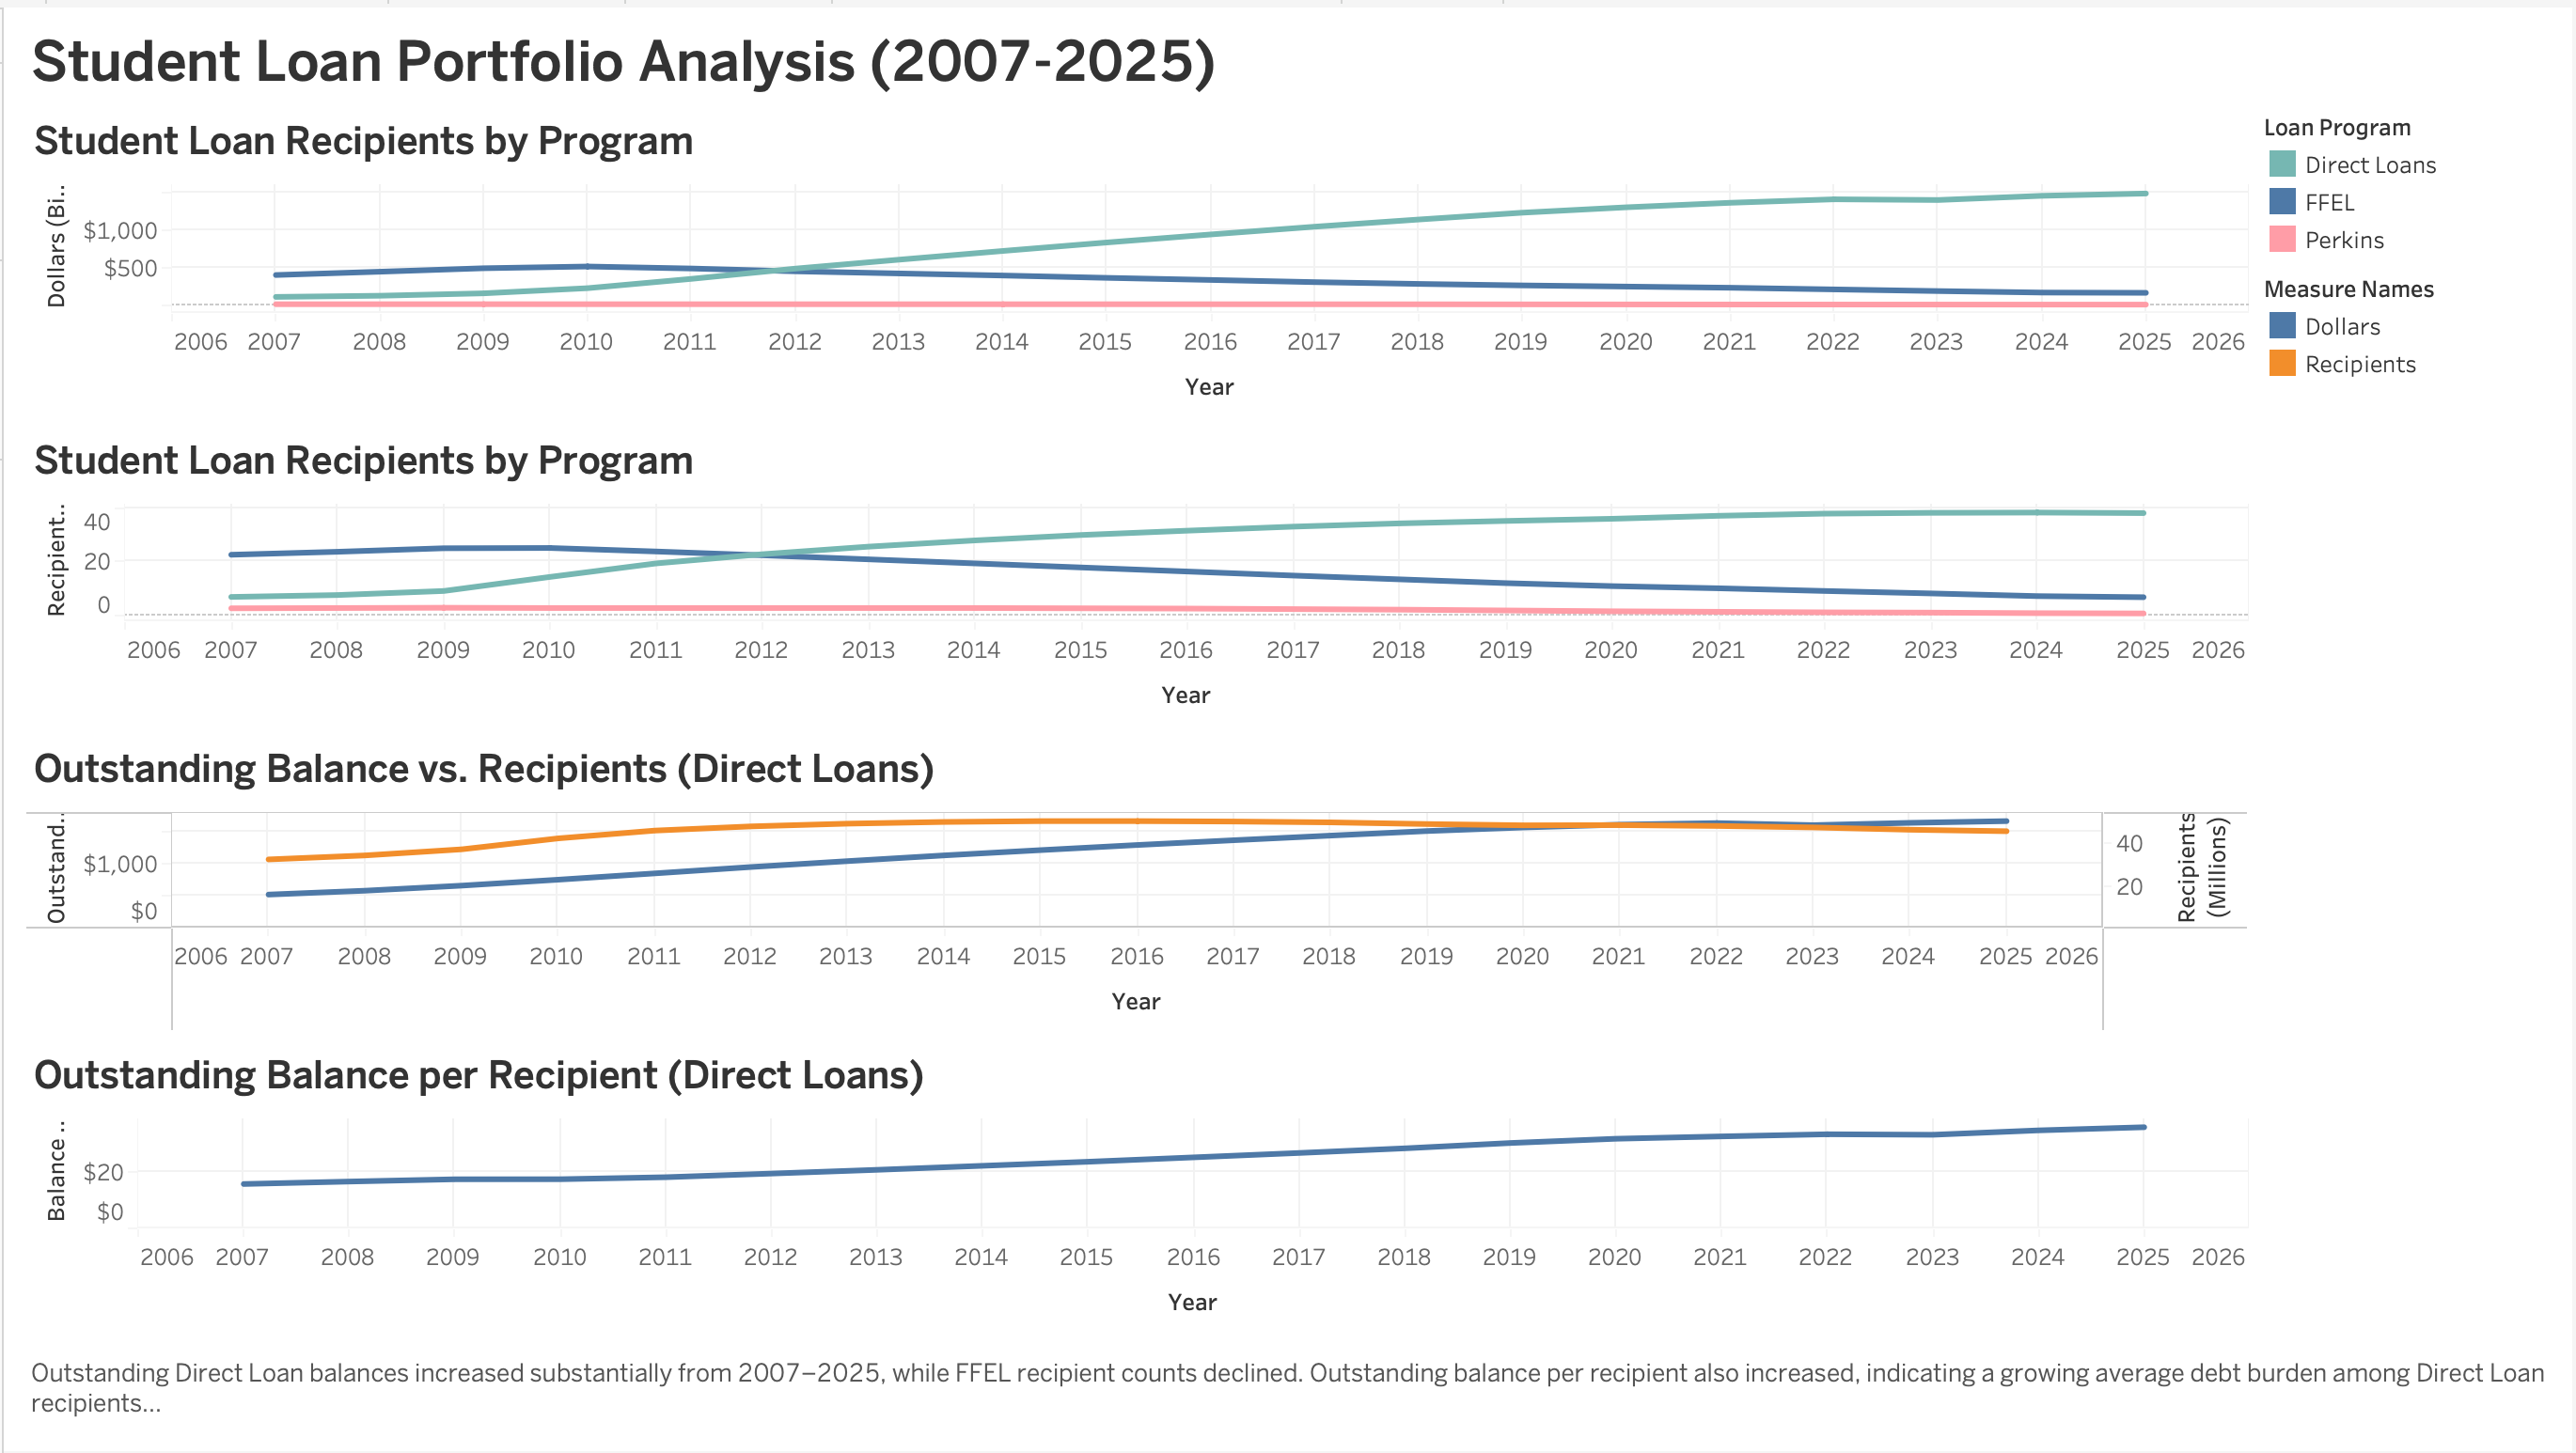

This screenshot's page, from the dashboard's own definition file:
{"tool":"tableau","page":{"name":"Student Loan Portfolio Analysis (2007-2025)","canvas":[1366,768],"ordinal":1},"visuals":[{"type":"title","box":[8,8,1350,43]},{"type":"worksheet","title":"Dollars Over Time","mark":"Line","rows":["Dollars"],"cols":["Year"],"box":[8,51,1190,172.4]},{"type":"legend","title":"Dollars Over Time","param":"[federated.1u6jw181gi2bki1c1x1nw0h41xzg].[none:Loan Program:nk]","box":[1198,51,160,86]},{"type":"legend","title":"Compairson of Dollars & Recipients","param":"[federated.1u6jw181gi2bki1c1x1nw0h41xzg].[:Measure Names]","box":[1198,137,160,66]},{"type":"worksheet","title":"Recipients Over Time","mark":"Line","rows":["Recipients"],"cols":["Year"],"box":[8,223.4,1190,165.8]},{"type":"worksheet","title":"Compairson of Dollars & Recipients","mark":"Automatic","rows":["Dollars","Recipients"],"cols":["Year"],"box":[8,389.2,1190,165.8]},{"type":"worksheet","title":"Dollars per Recipient","mark":"Line","rows":["Calculation_2475290958358171649"],"cols":["Year"],"box":[8,555,1190,163]},{"type":"text","box":[8,718,1350,42]}]}

Visuals, with their boxes in screenshot pixels (x1, y1, x2, y2), scaled from the page's 1366x768 canvas onto the 2576x1453 screenshot:
title: locate(15, 15, 2561, 97)
"Dollars Over Time" worksheet (Line marks): locate(15, 97, 2259, 423)
"Dollars Over Time" legend: locate(2259, 97, 2561, 259)
"Compairson of Dollars & Recipients" legend: locate(2259, 259, 2561, 384)
"Recipients Over Time" worksheet (Line marks): locate(15, 423, 2259, 736)
"Compairson of Dollars & Recipients" worksheet: locate(15, 736, 2259, 1050)
"Dollars per Recipient" worksheet (Line marks): locate(15, 1050, 2259, 1358)
text: locate(15, 1358, 2561, 1438)
